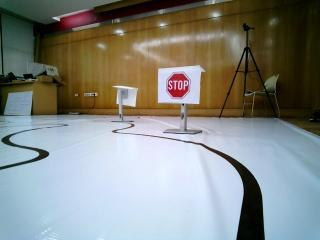stop: (162, 73, 201, 98)
